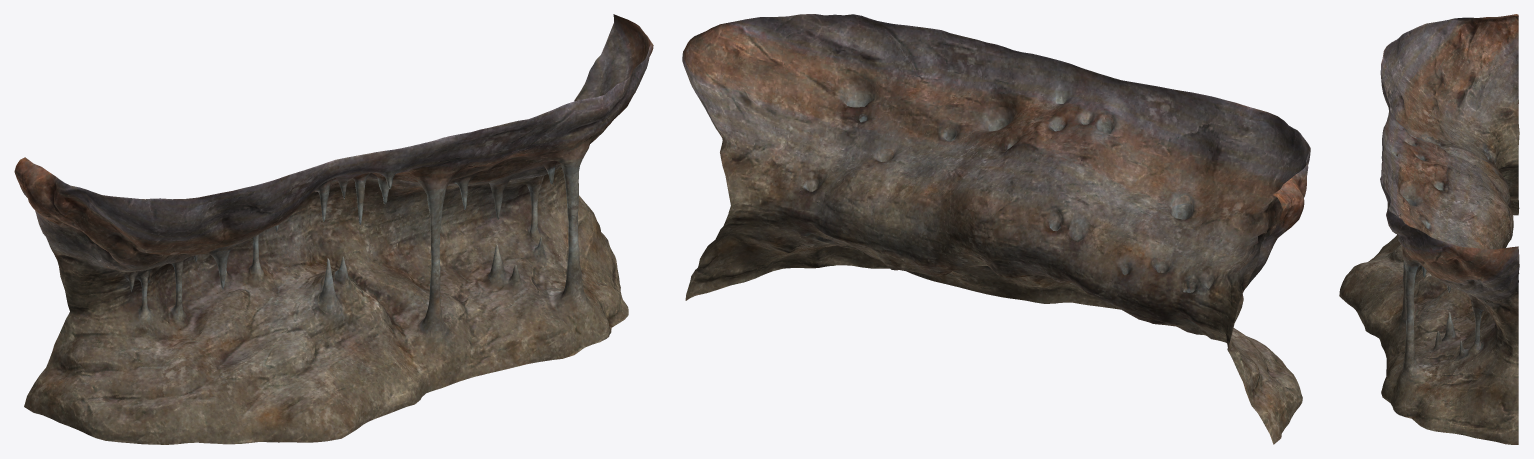
File: cave_strip_dripstone_02.DAE
3 renders of one model, left to right at view 1: azimuth 30°, elevation 25°; view 2: azimuth 150°, elevation 25°; view 3: azimuth 270°, elevation 25°, orthographic. The views are drawn at different scales.
Visible parts, largest first — view 1: cave_strip_dripstone_02; view 2: cave_strip_dripstone_02; view 3: cave_strip_dripstone_02.
Boxes of the visible parts, box(x1,y1,x2,y2) form: cave_strip_dripstone_02: box(14, 14, 653, 444); cave_strip_dripstone_02: box(682, 14, 1310, 444); cave_strip_dripstone_02: box(1339, 14, 1519, 444).
Size of what is drawn, in the model's own units: 8.79 by 3.42 by 2.79.
